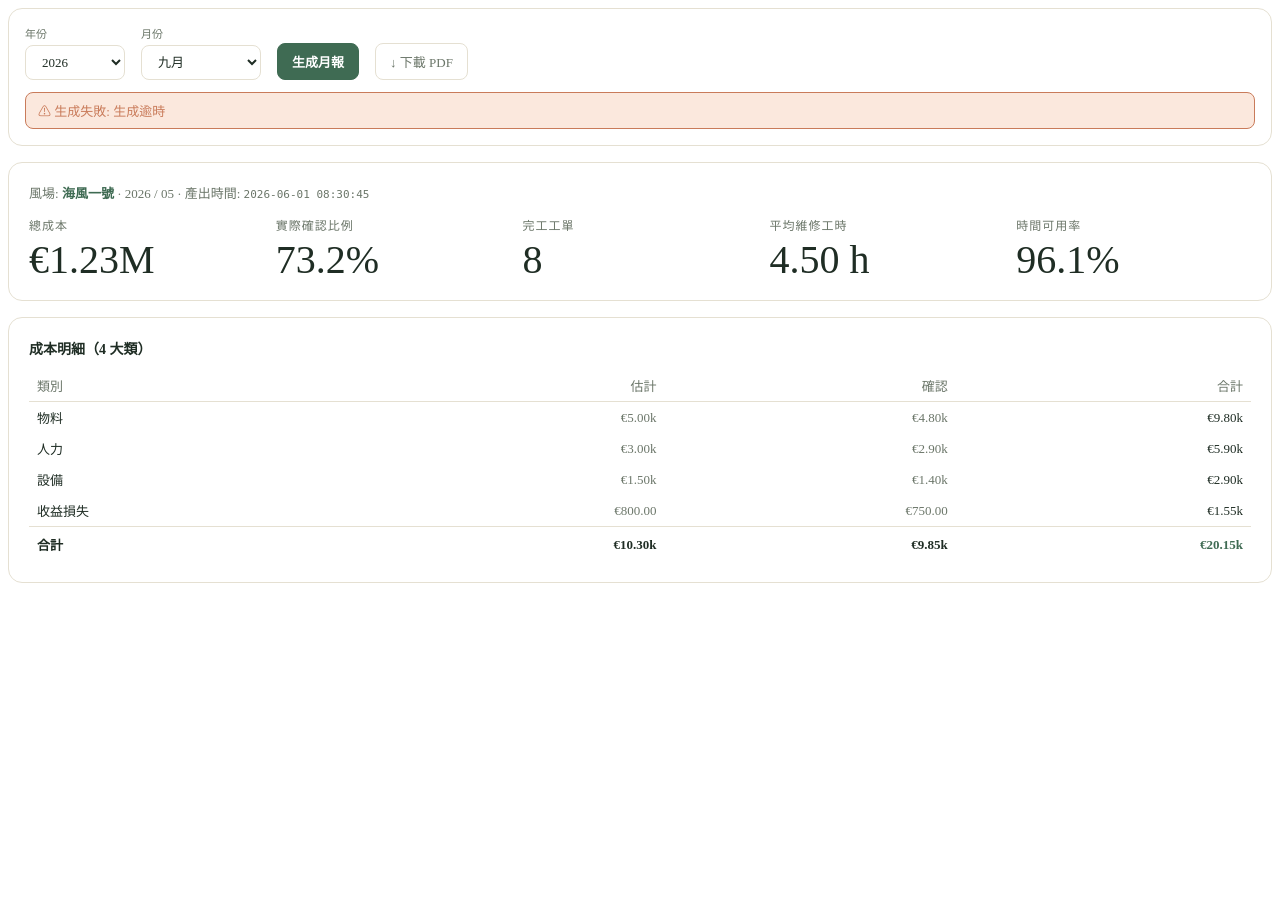
Test: MonthlyReportPanel — 雙 error 獨立顯示 › generate error 與 download error 可同時各自顯示
This screenshot has width=1280, height=900.
Click the button "↓ 下載 PDF" at (421, 62), box [375,43,468,80]
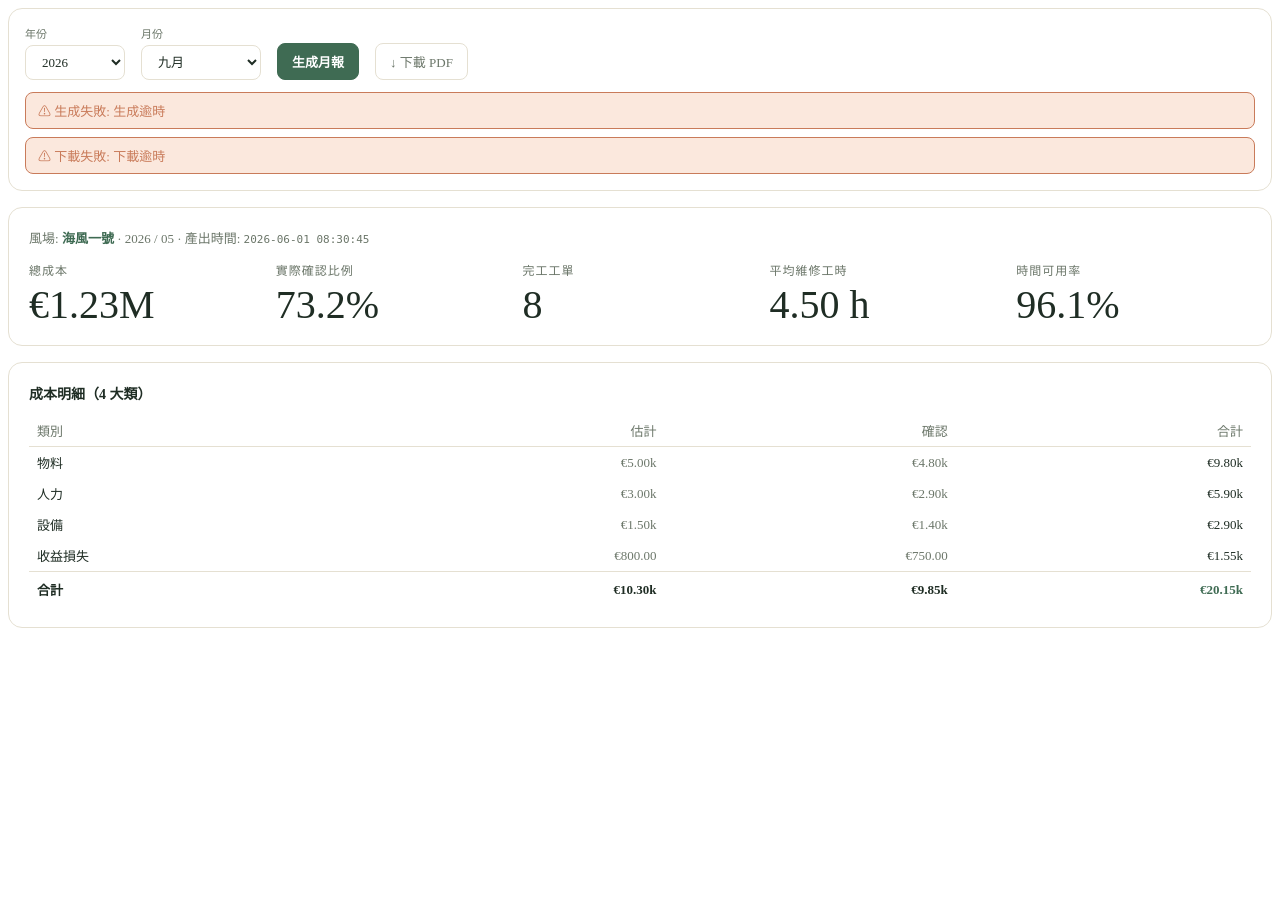
Expected: the text "⚠ 生成失敗: 生成逾時" is shown, [25,92,1255,129]
Expected: the text "⚠ 下載失敗: 下載逾時" is shown, [25,137,1255,174]
